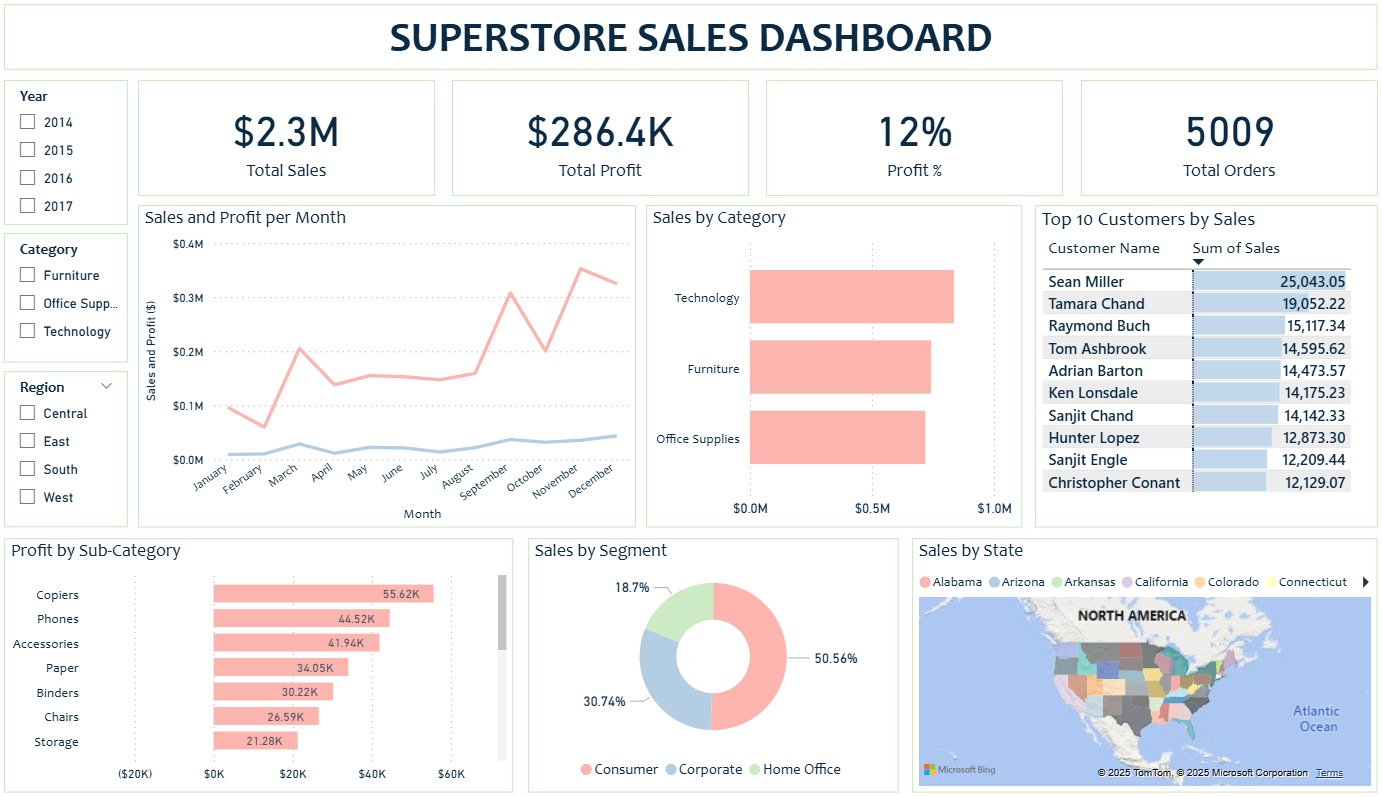

The dashboard page shown, as its layout file describes it:
{"tool":"powerbi","page":{"name":"Page 1","canvas":[1280,720],"ordinal":0},"visuals":[{"type":"card","fields":{"Values":["Sample - Superstore.Total Sales"]},"box":[146,75.1,265.5,104.1],"z":0},{"type":"card","fields":{"Values":["Sample - Superstore.Total Profit"]},"box":[427.1,75.1,265.5,104.1],"z":1000},{"type":"card","fields":{"Values":["Sample - Superstore.Total Orders"]},"box":[990.2,75.1,265.5,104.1],"z":2000},{"type":"lineChart","title":"Sales and Profit per Month","fields":{"Category":["Sample - Superstore.Order Date.Variation.Date Hierarchy.Month"],"Y":["Sample - Superstore.Total Sales","Sample - Superstore.Total Profit"]},"box":[146,187,446.4,288.9],"z":3000},{"type":"barChart","title":"Sales by Category","fields":{"Category":["Sample - Superstore.Category"],"Y":["Sample - Superstore.Total Sales"]},"box":[601.2,187,336.5,288.9],"z":4000},{"type":"clusteredBarChart","title":"Profit by Sub-Category","fields":{"Category":["Sample - Superstore.Sub-Category"],"Y":["Sample - Superstore.Total Profit"]},"box":[26,485.3,456.2,227.6],"z":5000},{"type":"filledMap","title":"Sales by State","fields":{"Category":["Sample - Superstore.State"],"Series":["Sample - Superstore.State"]},"box":[839.1,485.3,417.3,227.6],"z":6000},{"type":"slicer","fields":{"Values":["Sample - Superstore.Year"]},"box":[26.3,75.1,110.9,130.3],"z":7000},{"type":"slicer","fields":{"Values":["Sample - Superstore.Category"]},"box":[26.3,212.3,110.9,115.7],"z":8000},{"type":"slicer","fields":{"Values":["Sample - Superstore.Region"]},"box":[26.3,335.8,110.9,140.1],"z":9000},{"type":"textbox","box":[26,7,1230,59],"z":10000},{"type":"donutChart","title":"Sales by Segment","fields":{"Y":["Sample - Superstore.Total Sales"],"Category":["Sample - Superstore.Segment"]},"box":[494.8,485.3,331.7,227.6],"z":11000},{"type":"card","fields":{"Values":["Sample - Superstore.Profit %"]},"box":[708.2,75.1,265.5,104.1],"z":12000},{"type":"tableEx","title":"Top 10 Customers by Sales","fields":{"Values":["Sample - Superstore.Customer Name","Sum(Sample - Superstore.Sales)"]},"box":[949.4,187,307.4,288.9],"z":13000}]}

Visuals, with their boxes in screenshot pixels (x1, y1, x2, y2), scaled from the page's 1280x720 canvas onto the 1382x797 screenshot:
card - Sample - Superstore.Total Sales: BBox(158, 83, 444, 198)
card - Sample - Superstore.Total Profit: BBox(461, 83, 748, 198)
card - Sample - Superstore.Total Orders: BBox(1069, 83, 1356, 198)
"Sales and Profit per Month" lineChart: BBox(158, 207, 640, 527)
"Sales by Category" barChart: BBox(649, 207, 1012, 527)
"Profit by Sub-Category" clusteredBarChart: BBox(28, 537, 521, 789)
"Sales by State" filledMap: BBox(906, 537, 1357, 789)
slicer - Sample - Superstore.Year: BBox(28, 83, 148, 227)
slicer - Sample - Superstore.Category: BBox(28, 235, 148, 363)
slicer - Sample - Superstore.Region: BBox(28, 372, 148, 527)
textbox: BBox(28, 8, 1356, 73)
"Sales by Segment" donutChart: BBox(534, 537, 892, 789)
card - Sample - Superstore.Profit %: BBox(765, 83, 1051, 198)
"Top 10 Customers by Sales" tableEx: BBox(1025, 207, 1357, 527)
